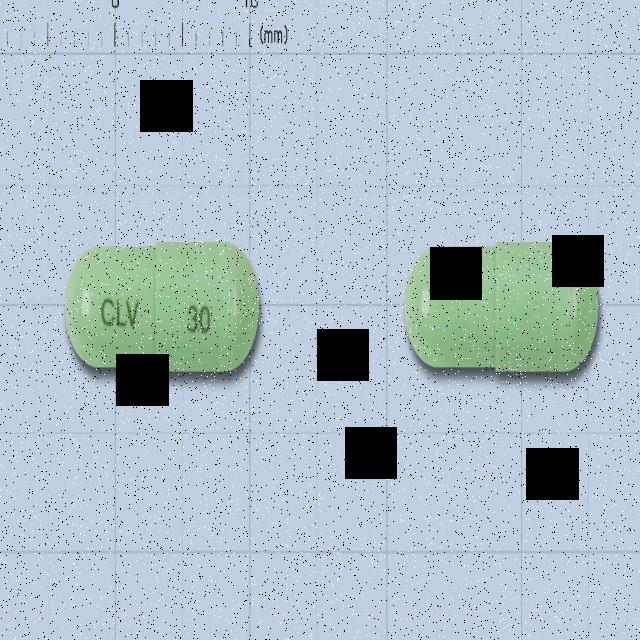Levovir Cap: (64, 240, 260, 374)
